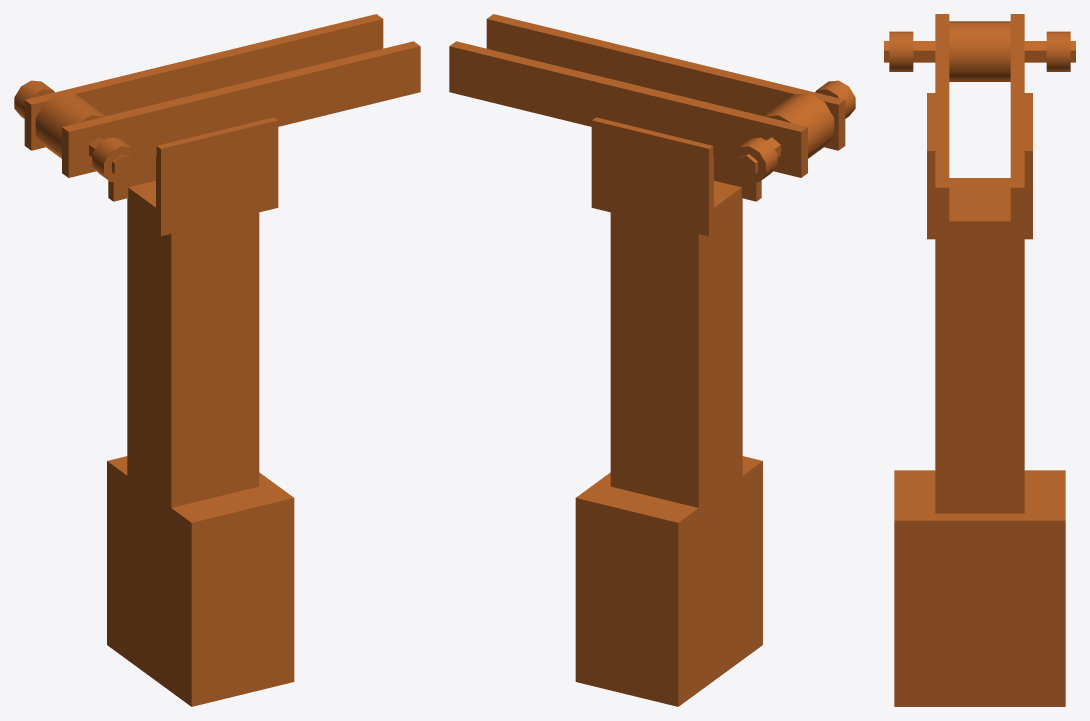
File: sorter_top_lug.glb
3 views of the same model, side by side, from view 1: azimuth 30°, elevation 25°; view 2: azimuth 150°, elevation 25°; view 3: azimuth 270°, elevation 25° (orthographic).
Parts seen in each view (by area): view 1: TopChainLug; view 2: TopChainLug; view 3: TopChainLug.
Part boxes in pixels (<box>): TopChainLug: <box>14,14,420,706</box>; TopChainLug: <box>449,14,855,706</box>; TopChainLug: <box>884,14,1075,706</box>.
Bounding box in the file's own units: 0.24 × 0.3844 × 0.112.
